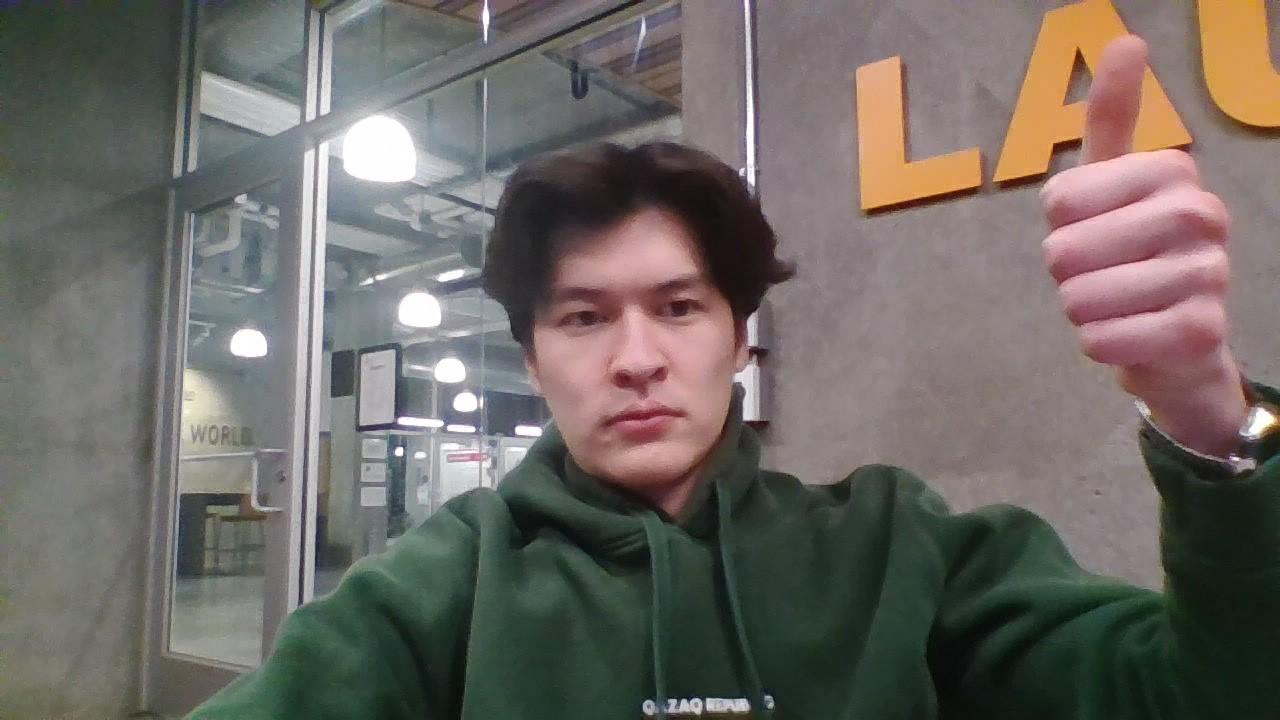thumbsUp: (1045, 36, 1235, 369)
